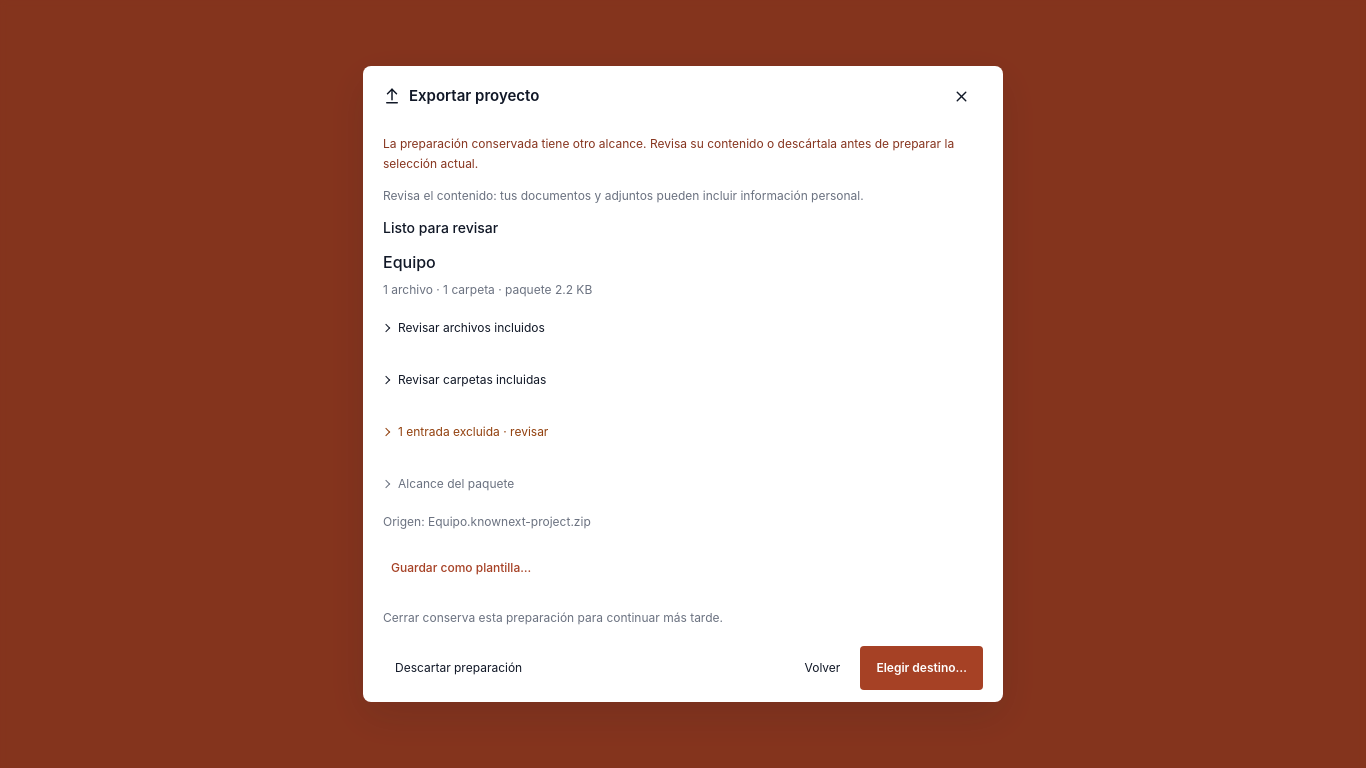
Test: distinguishes cancelled export destination from confirmed delivery and keeps the native review
Step 1. Click the button "Elegir destino…" → (922, 668), box [860, 646, 983, 690]
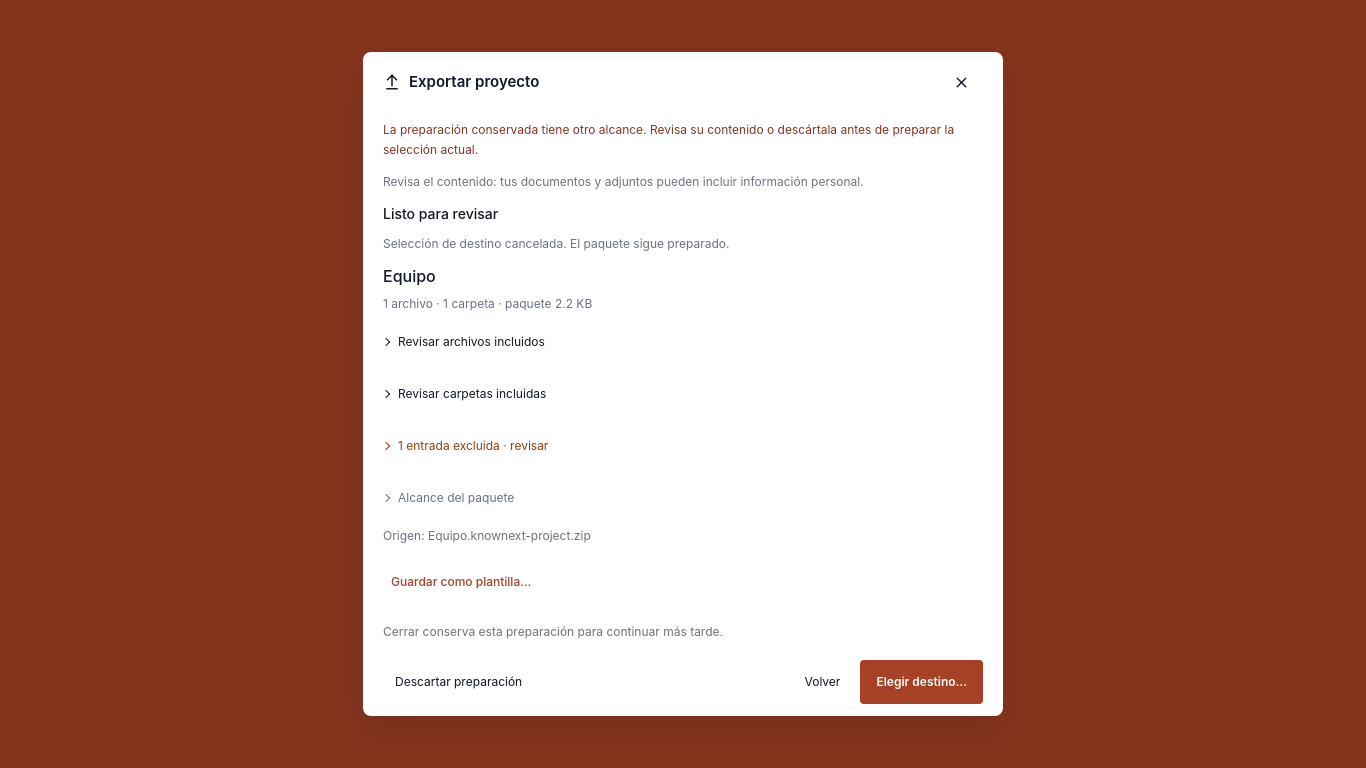
Check: the text "Paquete guardado" is not shown
Step 2. Click the button "Elegir destino…" → (922, 682), box [860, 660, 983, 704]
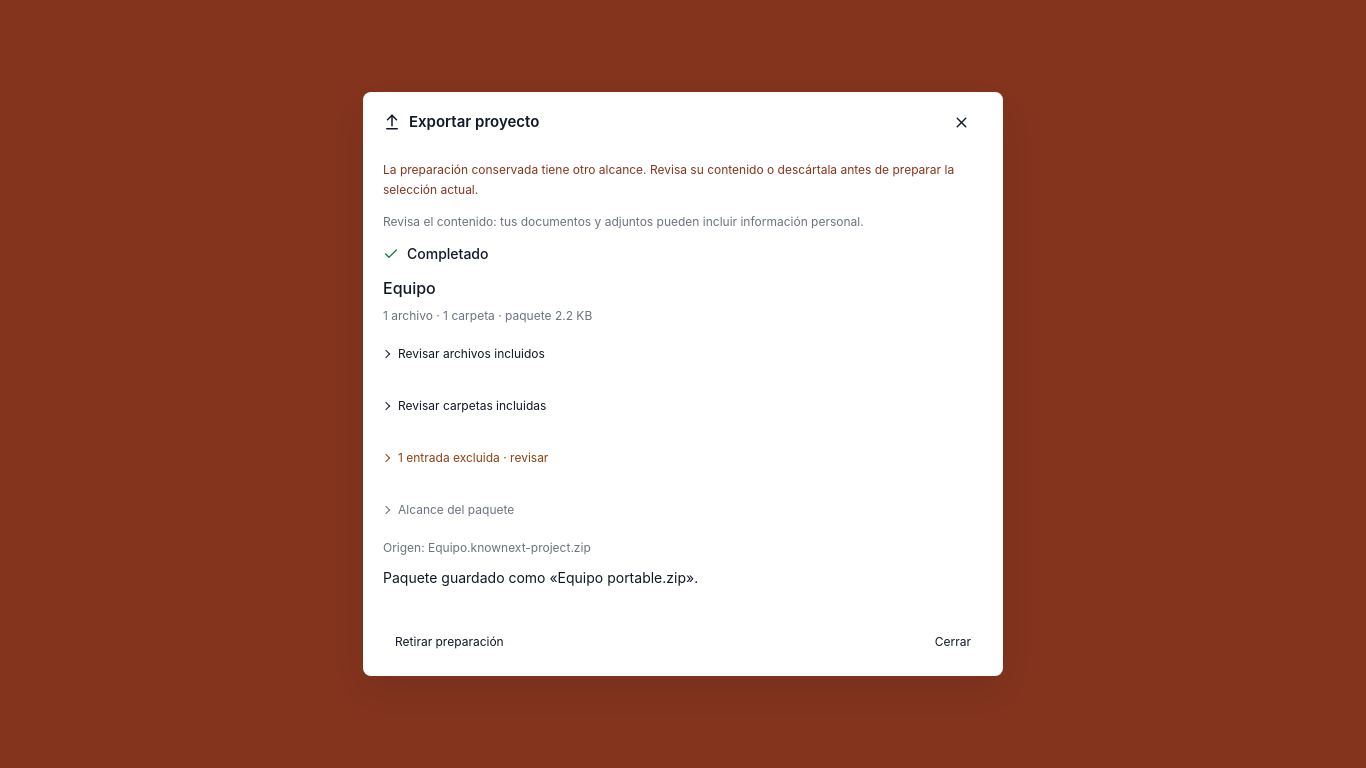
Check: the text "Paquete guardado como «Equipo portable.zip»." is shown, box [383, 569, 698, 586]
